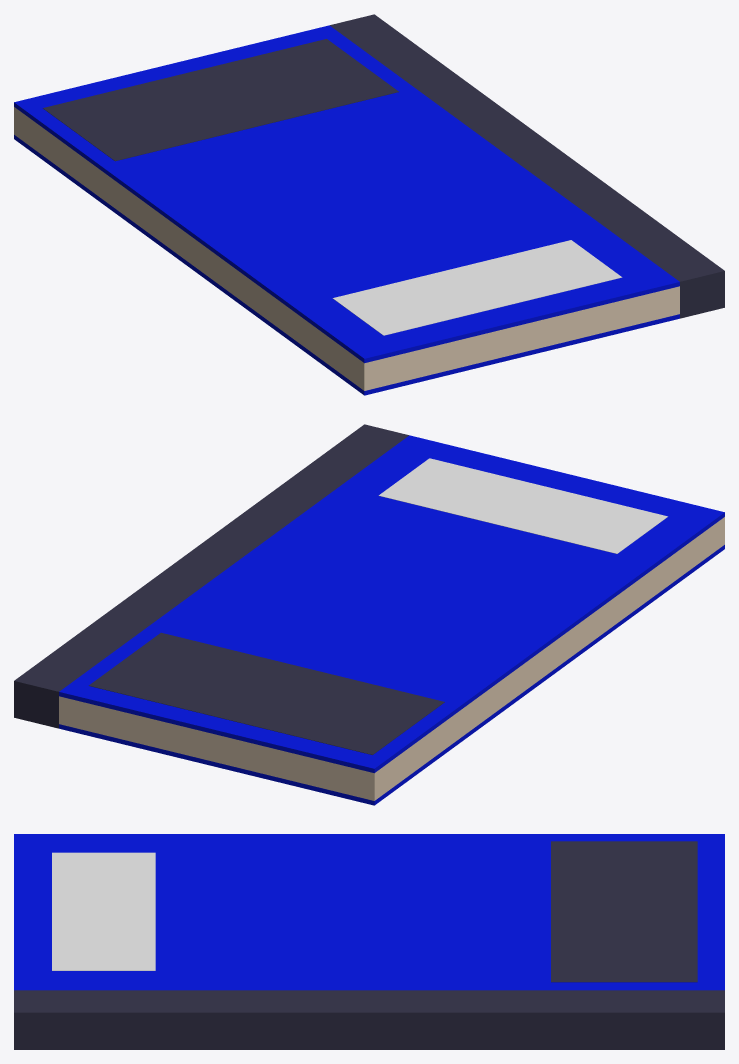
File: book.fbx
3 views of the same model, one above another, from view 1: azimuth 30°, elevation 25°; view 2: azimuth 150°, elevation 25°; view 3: azimuth 270°, elevation 25° (orthographic).
Visible parts, largest first — view 1: Cube.006, Cube.008, Cube.007; view 2: Cube.006, Cube.008, Cube.007; view 3: Cube.006, Cube.008, Cube.007.
Part boxes in pixels (left/top/right/bottom): Cube.006: left=14, top=14, right=724, bottom=395; Cube.008: left=43, top=39, right=398, bottom=161; Cube.007: left=332, top=240, right=622, bottom=335; Cube.006: left=14, top=424, right=724, bottom=805; Cube.008: left=89, top=632, right=444, bottom=754; Cube.007: left=378, top=458, right=667, bottom=553; Cube.006: left=14, top=834, right=724, bottom=1049; Cube.008: left=551, top=841, right=697, bottom=982; Cube.007: left=52, top=852, right=155, bottom=970.
Bounding box in the file's own units: 555 × 54.64 × 935.
